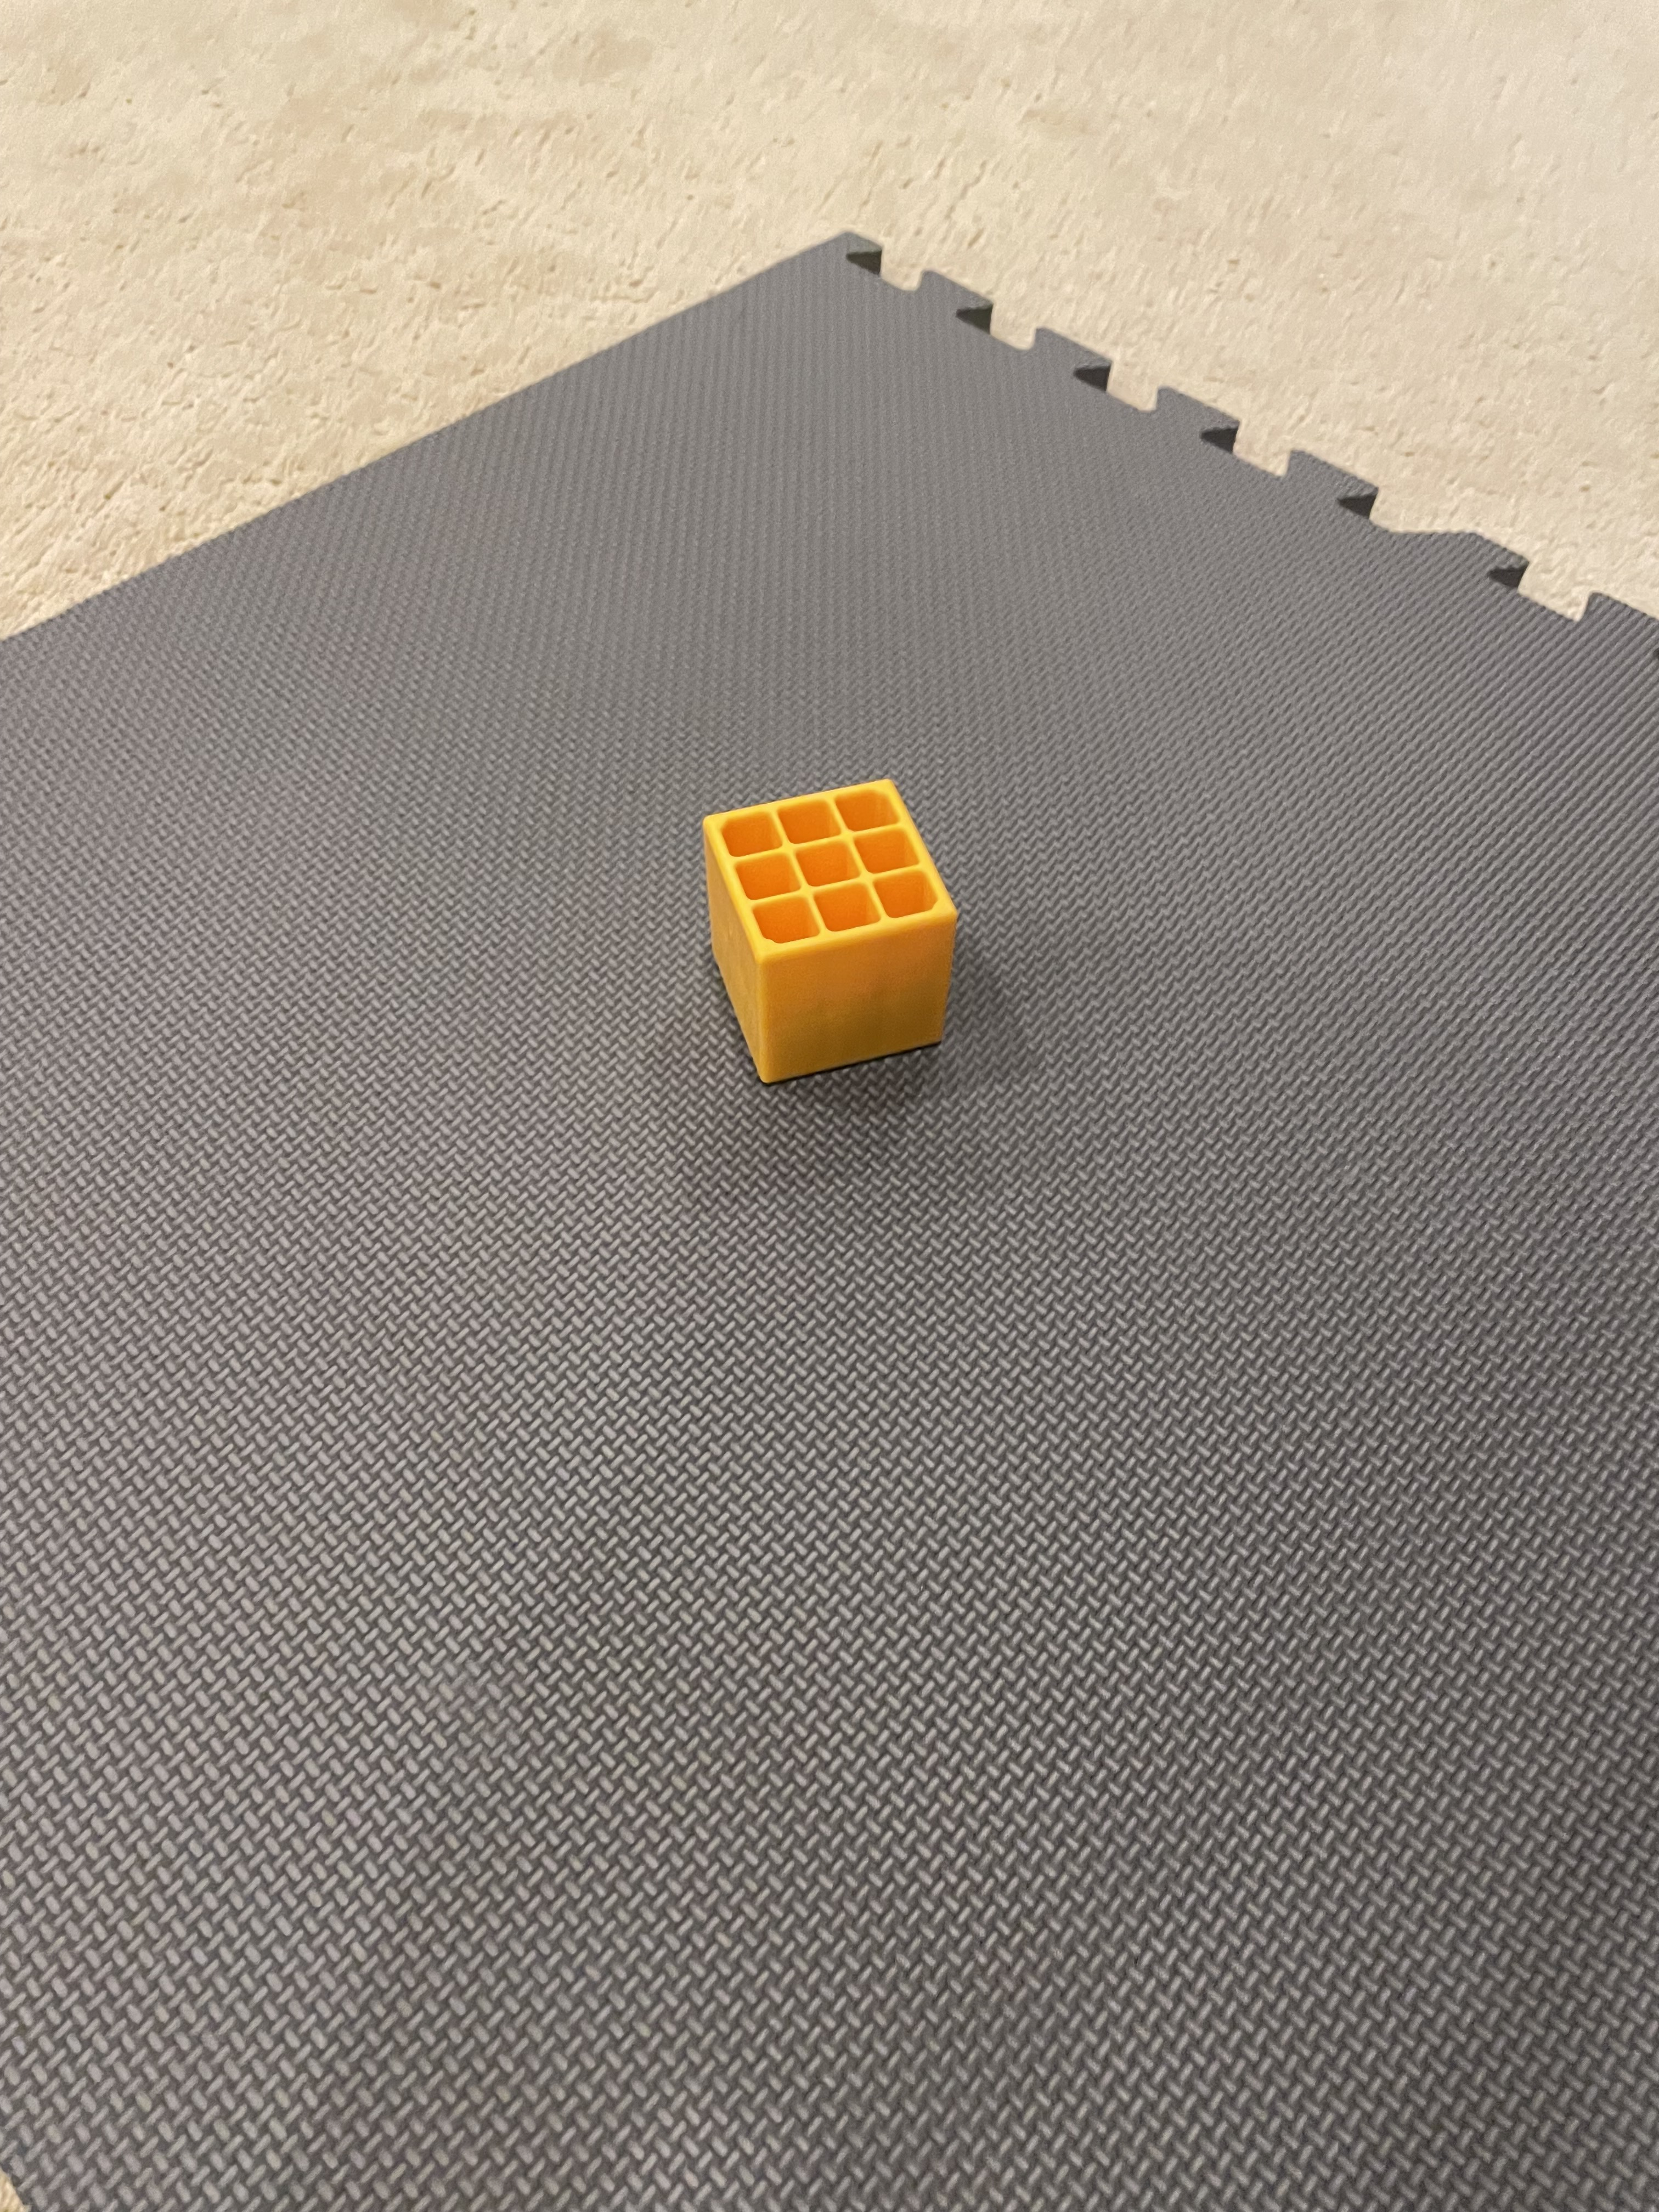cube: (660, 738, 1016, 1104)
